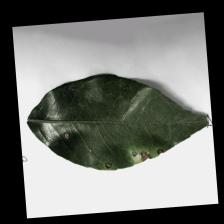canker: (120, 149, 168, 165)
